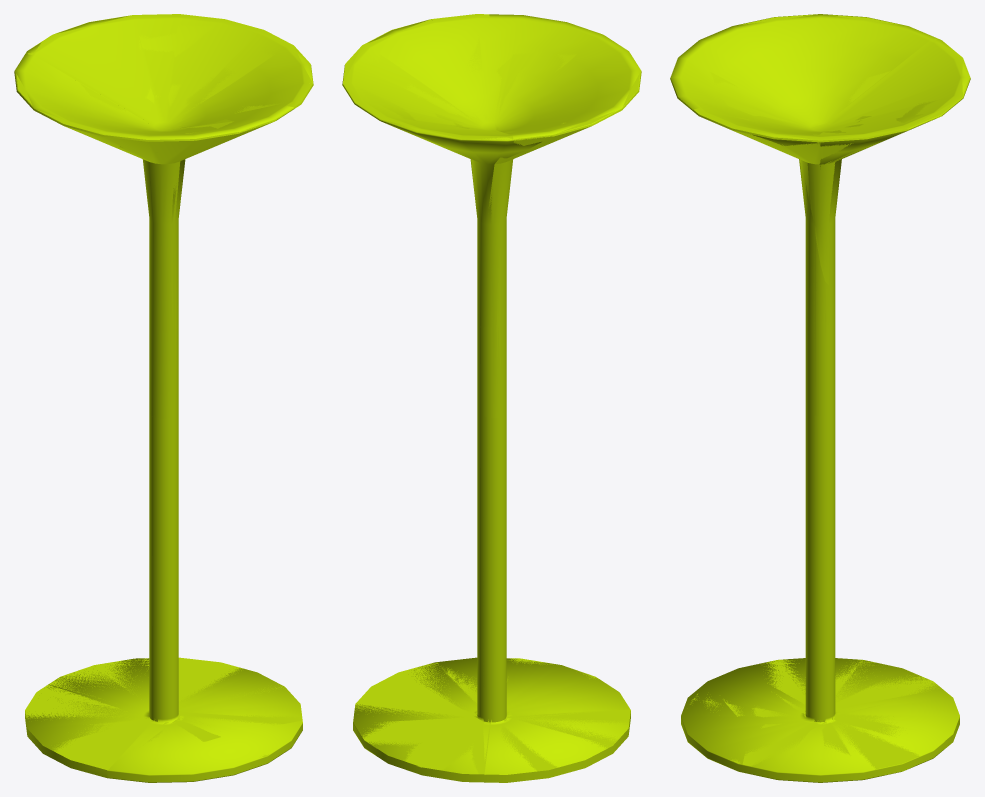
The model's file is Lamp.fbx.
3 views of the same model, side by side, from view 1: azimuth 30°, elevation 25°; view 2: azimuth 150°, elevation 25°; view 3: azimuth 270°, elevation 25° (orthographic).
Parts seen in each view (by area): view 1: Lamp, Lamp_cell.001, Lamp_cell.002, Lamp_cell.003, Lamp_cell; view 2: Lamp, Lamp_cell, Lamp_cell.003, Lamp_cell.001, Lamp_cell.002; view 3: Lamp, Lamp_cell.001, Lamp_cell, Lamp_cell.003, Lamp_cell.002.
Boxes of the visible parts, <box> form: Lamp: <box>15,16,312,782</box>; Lamp_cell.001: <box>25,14,313,129</box>; Lamp_cell.002: <box>14,71,284,418</box>; Lamp_cell.003: <box>25,413,220,777</box>; Lamp_cell: <box>48,657,302,725</box>; Lamp: <box>342,14,640,782</box>; Lamp_cell: <box>353,416,490,782</box>; Lamp_cell.003: <box>485,414,630,782</box>; Lamp_cell.001: <box>342,14,513,211</box>; Lamp_cell.002: <box>488,51,641,417</box>; Lamp: <box>670,14,970,782</box>; Lamp_cell.001: <box>693,38,970,284</box>; Lamp_cell: <box>742,411,959,775</box>; Lamp_cell.003: <box>752,659,938,728</box>; Lamp_cell.002: <box>670,14,899,415</box>.
Size of the model in its own units: 104 by 248 by 104.
